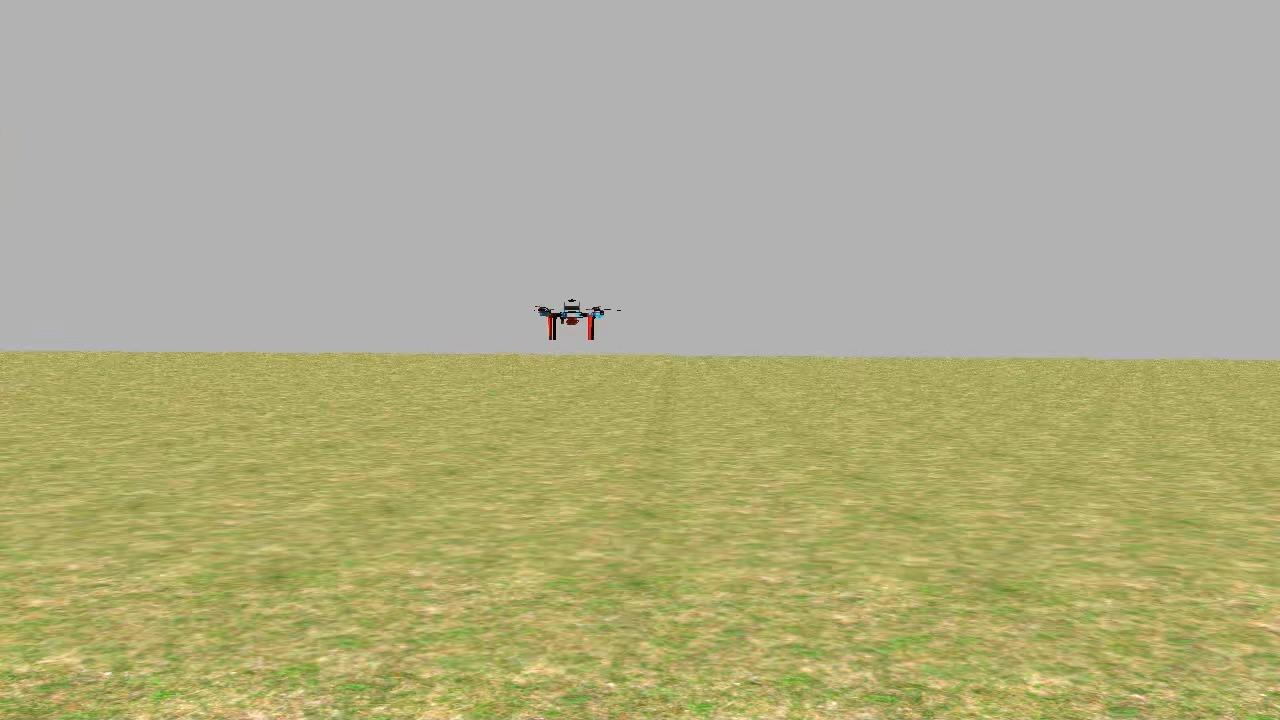UAV: (533, 294, 609, 346)
